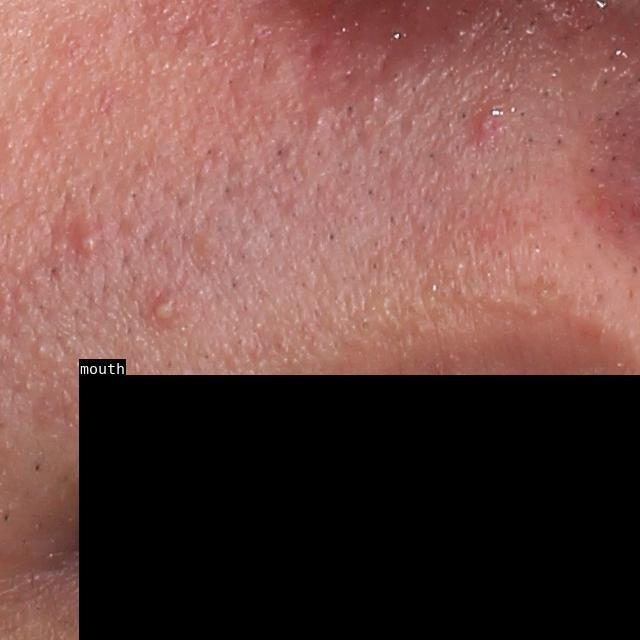papule: (464, 95, 508, 142)
pustule: (146, 287, 184, 332), (66, 222, 106, 262)
